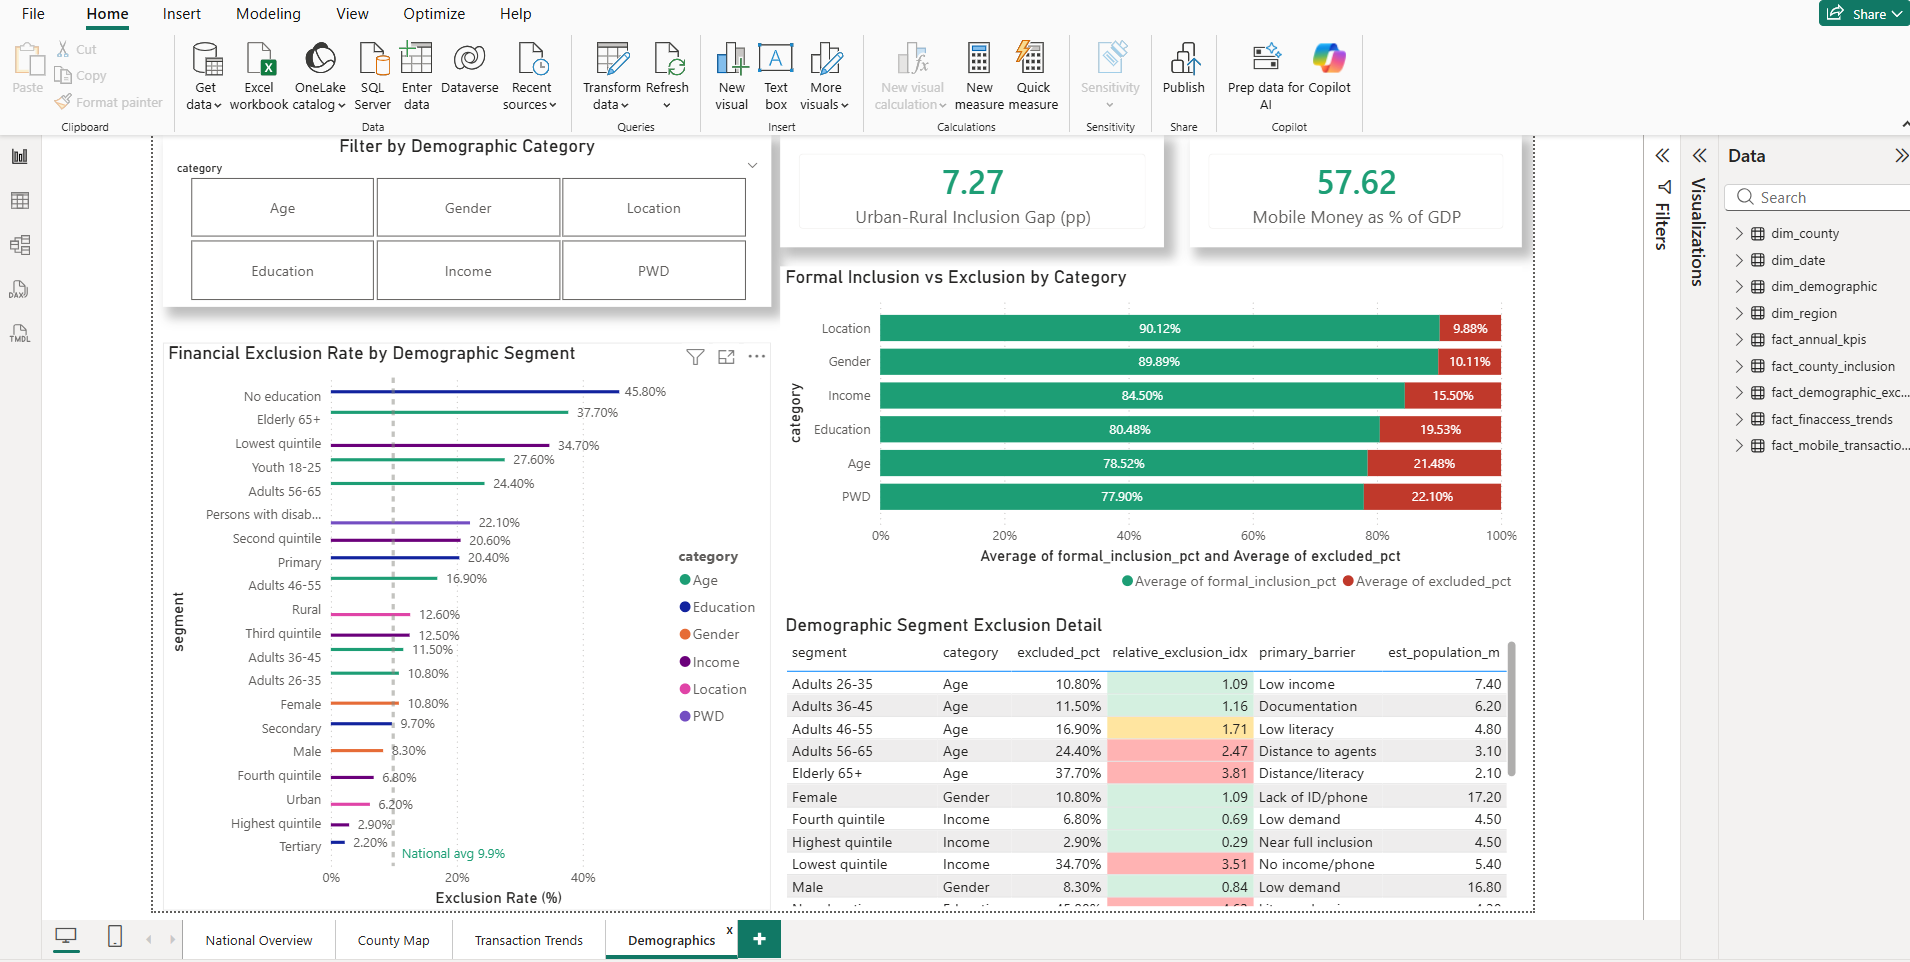

This screenshot's page, from the dashboard's own definition file:
{"tool":"powerbi","page":{"name":"Demographics","canvas":[1280,720],"ordinal":3},"visuals":[{"type":"slicer","title":"Filter by Demographic Category","fields":{"Values":["fact_demographic_exclusion.category"]},"box":[9.2,0,564.2,159.7],"z":0},{"type":"cardVisual","title":"Urban-Rural Inclusion Gap (pp)","fields":{"Data":["fact_county_inclusion.Avg Urban Rural Gap"]},"box":[581.6,0,356.4,104.4],"z":1000},{"type":"cardVisual","title":"Mobile Money as % of GDP","fields":{"Data":["fact_annual_kpis.Mobile Money GDP Pct"]},"box":[961.5,0,308.2,104.4],"z":2000},{"type":"clusteredBarChart","title":"Financial Exclusion Rate by Demographic Segment","fields":{"Category":["fact_demographic_exclusion.segment"],"Series":["fact_demographic_exclusion.category"],"Y":["Sum(fact_demographic_exclusion.excluded_pct)"]},"box":[9.2,192.5,564.2,527.4],"z":3000},{"type":"hundredPercentStackedBarChart","title":"Formal Inclusion vs Exclusion by Category","fields":{"Category":["fact_demographic_exclusion.category"],"Y":["Avg(fact_demographic_exclusion.formal_inclusion_pct)","Avg(fact_demographic_exclusion.excluded_pct)"]},"box":[581.6,121.9,688.1,310.3],"z":4000},{"type":"tableEx","title":"Demographic Segment Exclusion Detail","fields":{"Values":["fact_demographic_exclusion.segment","fact_demographic_exclusion.category","fact_demographic_exclusion.excluded_pct","fact_demographic_exclusion.relative_exclusion_idx","fact_demographic_exclusion.primary_barrier","fact_demographic_exclusion.est_population_m"]},"box":[581.6,444.4,688.1,275.5],"z":5000}]}

Visuals, with their boxes on the page's 1280x720 design canvas (x1, y1, x2, y2). These are canvas units, not pixel positions in the 1910x962 screenshot, which may show the page scaled, cropped or inside an application window:
"Filter by Demographic Category" slicer: x1=9, y1=0, x2=573, y2=160
"Urban-Rural Inclusion Gap (pp)" cardVisual: x1=582, y1=0, x2=938, y2=104
"Mobile Money as % of GDP" cardVisual: x1=962, y1=0, x2=1270, y2=104
"Financial Exclusion Rate by Demographic Segment" clusteredBarChart: x1=9, y1=192, x2=573, y2=720
"Formal Inclusion vs Exclusion by Category" hundredPercentStackedBarChart: x1=582, y1=122, x2=1270, y2=432
"Demographic Segment Exclusion Detail" tableEx: x1=582, y1=444, x2=1270, y2=720
